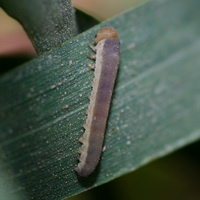insect: (75, 27, 119, 176)
